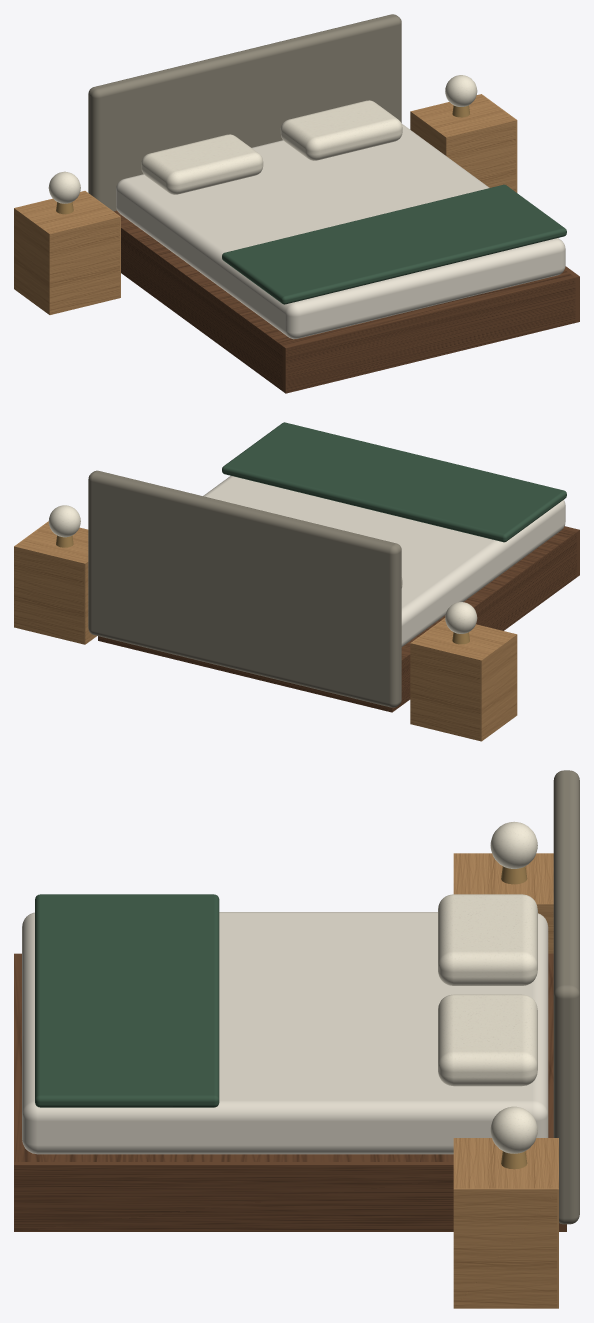
The model's file is noi-that-giuong.glb.
3 renders of one model, top to bottom at view 1: azimuth 30°, elevation 25°; view 2: azimuth 150°, elevation 25°; view 3: azimuth 270°, elevation 25°, orthographic. The views are drawn at different scales.
Size of the model in its own units: 3.02 by 1.1 by 2.15.
Materials: 7 (3 with a texture image).
